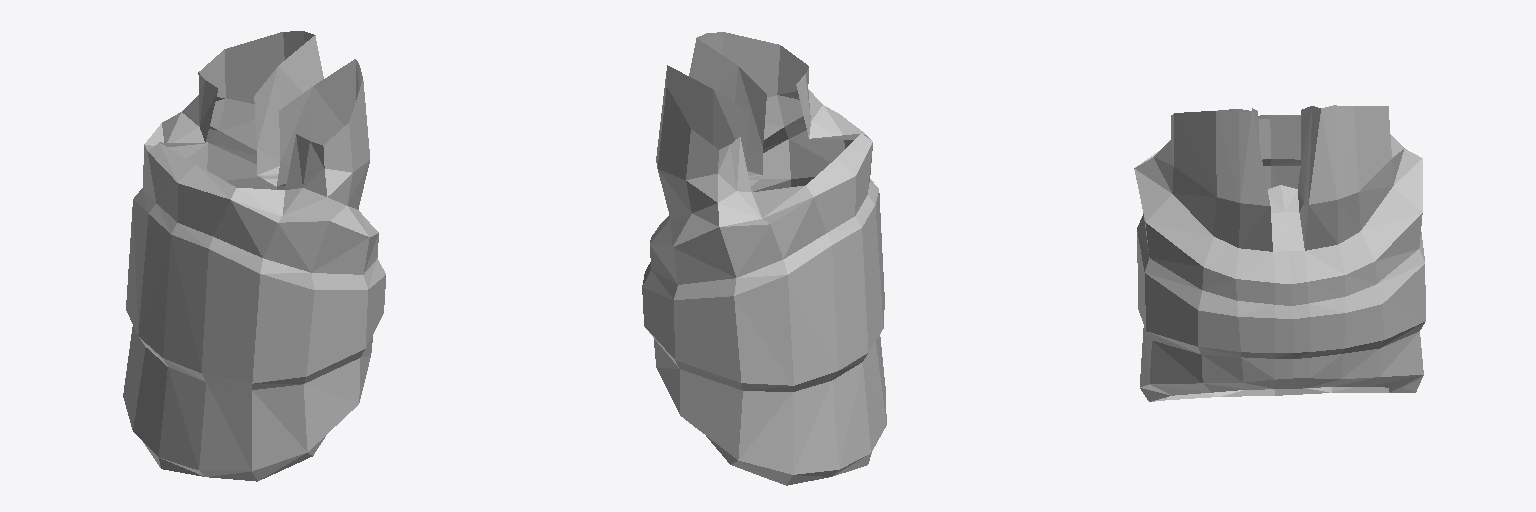
The model's file is RFinger32.obj.
The picture shows the model from 3 angles: view 1: azimuth 30°, elevation 25°; view 2: azimuth 150°, elevation 25°; view 3: azimuth 270°, elevation 25°; orthographic projection.
Visible parts, largest first — view 1: RFinger32_RFinger32; view 2: RFinger32_RFinger32; view 3: RFinger32_RFinger32.
Boxes of the visible parts, x1=… form: RFinger32_RFinger32: x1=123, y1=31, x2=385, y2=481; RFinger32_RFinger32: x1=642, y1=32, x2=886, y2=485; RFinger32_RFinger32: x1=1134, y1=105, x2=1425, y2=401.
Size of the model in its own units: 0.0192 by 0.0344 by 0.0242.